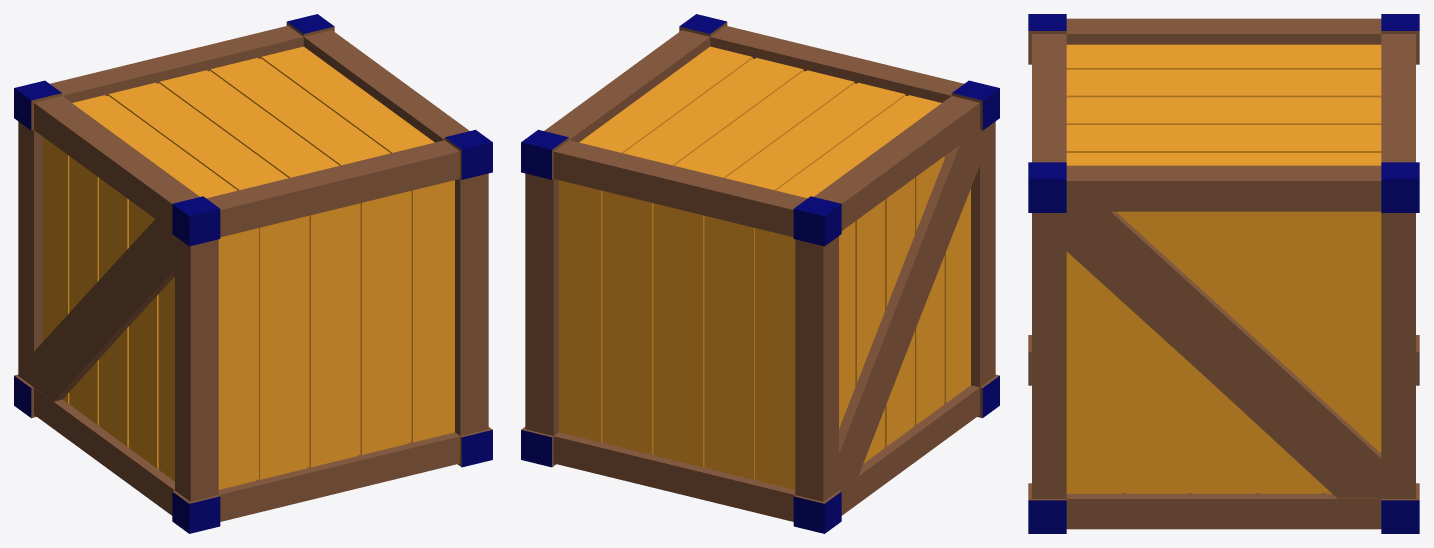
The model's file is crate-by-sampokemon-wgI8yaSiFv.glb.
3 renders of one model, left to right at view 1: azimuth 30°, elevation 25°; view 2: azimuth 150°, elevation 25°; view 3: azimuth 270°, elevation 25°, orthographic. The views are drawn at different scales.
Visible parts, largest first — view 1: Cube.001, Cube, Cube.002; view 2: Cube.001, Cube, Cube.002; view 3: Cube.001, Cube, Cube.002.
Part boxes in pixels (<box>): Cube.001: <box>43,46,454,489</box>; Cube: <box>14,14,492,533</box>; Cube.002: <box>34,219,174,401</box>; Cube.001: <box>559,46,970,489</box>; Cube: <box>521,14,999,533</box>; Cube.002: <box>839,130,979,489</box>; Cube.001: <box>1066,44,1381,493</box>; Cube: <box>1028,14,1419,533</box>; Cube.002: <box>1066,211,1381,498</box>.
Bounding box in the file's own units: 2.04 × 2.04 × 2.04.
